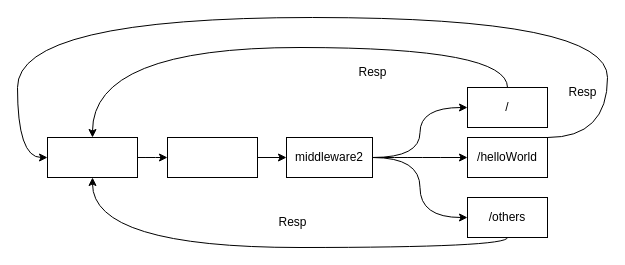
This 625x265 diagram has some shape labels left out. Here are the shapes that lost their labels. From the top down, the centre of each, then its label:
At (92,157): "请求".
At (212,157): "middleware1".
